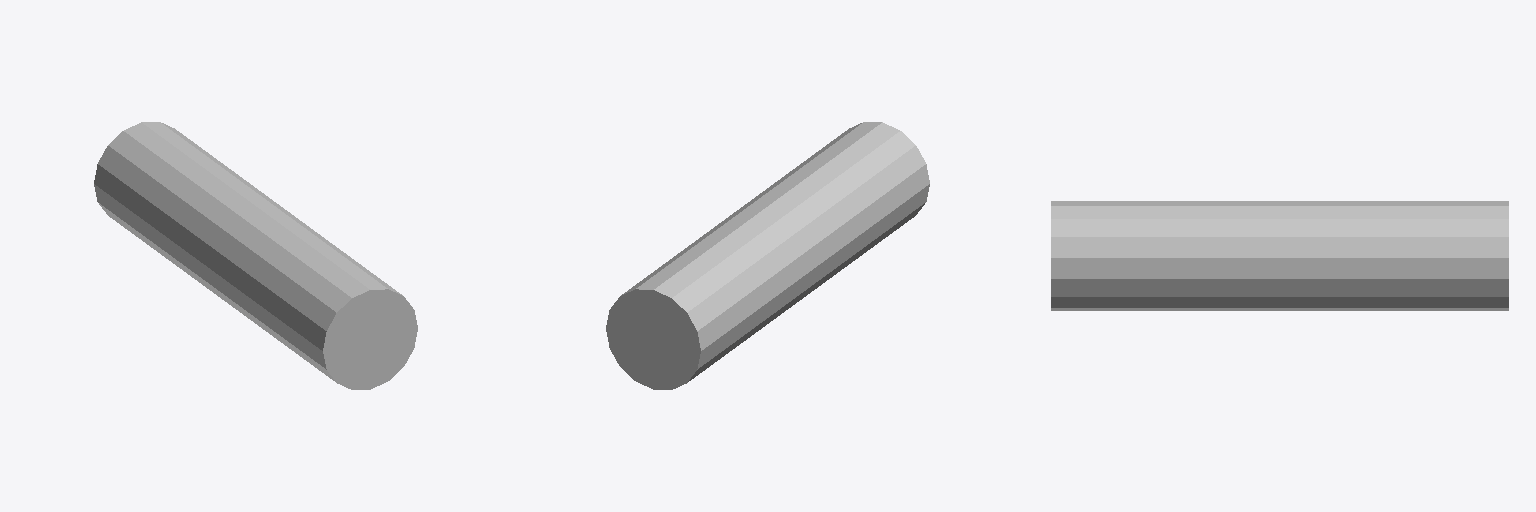
File: BDD_Mat03.obj
3 views of the same model, side by side, from view 1: azimuth 30°, elevation 25°; view 2: azimuth 150°, elevation 25°; view 3: azimuth 270°, elevation 25° (orthographic).
Parts seen in each view (by area): view 1: Mat02; view 2: Mat02; view 3: Mat02.
Boxes of the visible parts, x1,y1,x2,y2 form: Mat02: [94, 122, 417, 389]; Mat02: [606, 122, 929, 389]; Mat02: [1051, 201, 1508, 310].
Bounding box in the file's own units: 0.12 × 0.12 × 0.5.